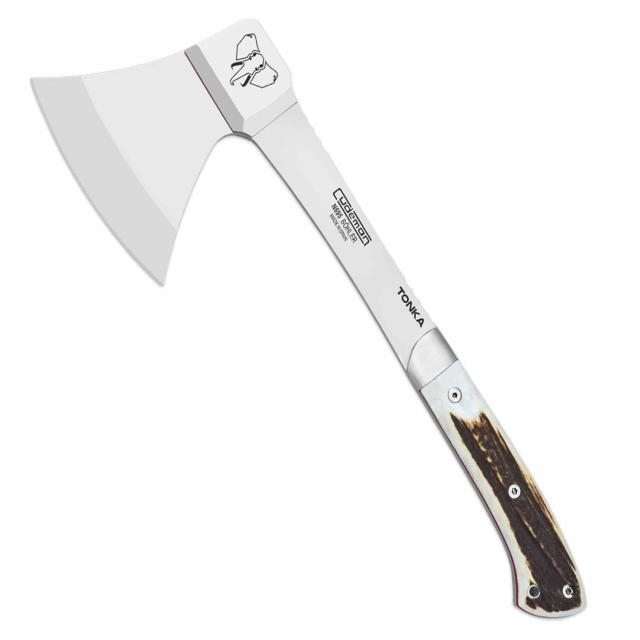Kapak: (31, 23, 558, 599)
